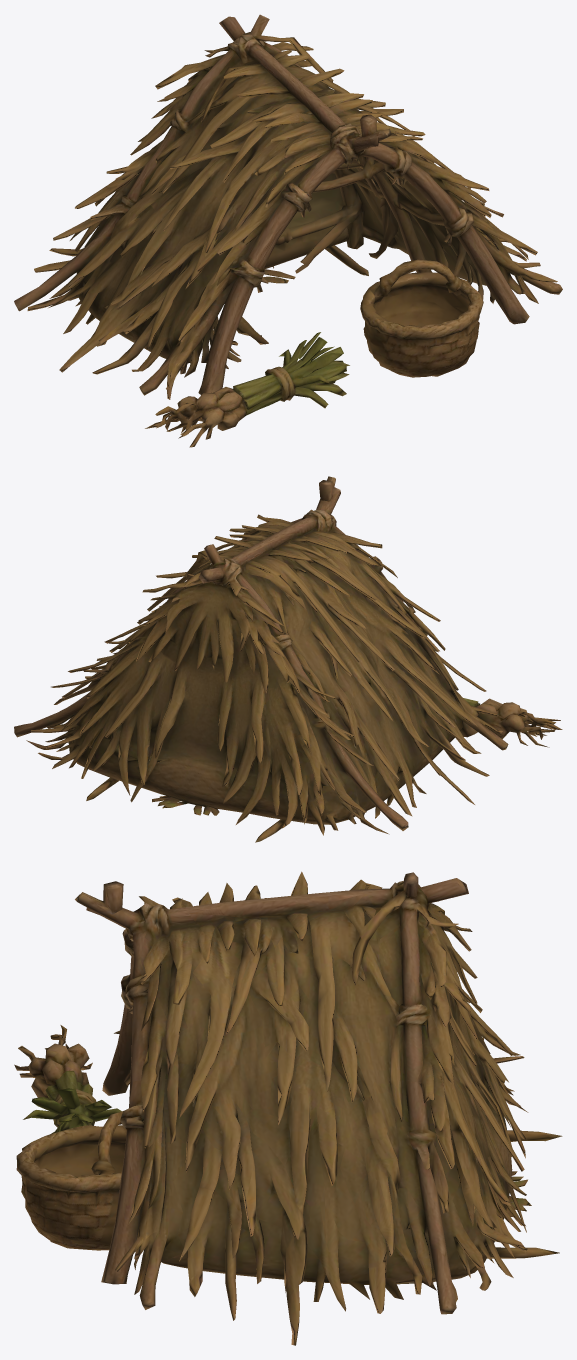
File: Foraging Tent (East African).fbx
The picture shows the model from 3 angles, top to bottom: view 1: azimuth 30°, elevation 25°; view 2: azimuth 150°, elevation 25°; view 3: azimuth 270°, elevation 25°; orthographic projection. The views are drawn at different scales.
Parts seen in each view (by area): view 1: tripo_node_990f9e7e; view 2: tripo_node_990f9e7e; view 3: tripo_node_990f9e7e.
Boxes of the visible parts, left/top/right/bottom form: tripo_node_990f9e7e: left=14, top=14, right=562, bottom=447; tripo_node_990f9e7e: left=14, top=476, right=562, bottom=842; tripo_node_990f9e7e: left=14, top=871, right=562, bottom=1345.
Bounding box in the file's own units: 1 × 0.5417 × 0.8.
